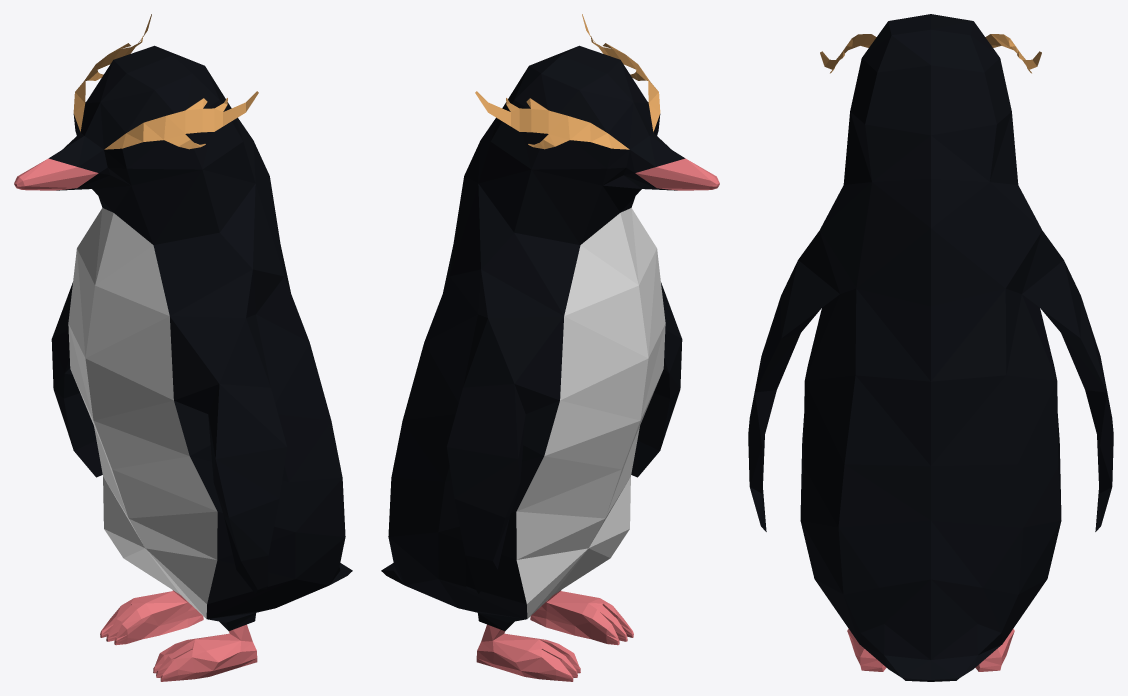
File: pinguin.glb
The picture shows the model from 3 angles, left to right: view 1: azimuth 30°, elevation 25°; view 2: azimuth 150°, elevation 25°; view 3: azimuth 270°, elevation 25°; orthographic projection. The views are drawn at different scales.
Visible parts, largest first — view 1: Low_poly_rockhopper_penguin_obj_cleaner_materialmerger_gles; view 2: Low_poly_rockhopper_penguin_obj_cleaner_materialmerger_gles; view 3: Low_poly_rockhopper_penguin_obj_cleaner_materialmerger_gles.
Boxes of the visible parts, x1=… form: Low_poly_rockhopper_penguin_obj_cleaner_materialmerger_gles: x1=14, y1=14, x2=352, y2=681; Low_poly_rockhopper_penguin_obj_cleaner_materialmerger_gles: x1=381, y1=14, x2=719, y2=681; Low_poly_rockhopper_penguin_obj_cleaner_materialmerger_gles: x1=748, y1=14, x2=1113, y2=681.
Size of the model in its own units: 1.71 by 3 by 1.62.
